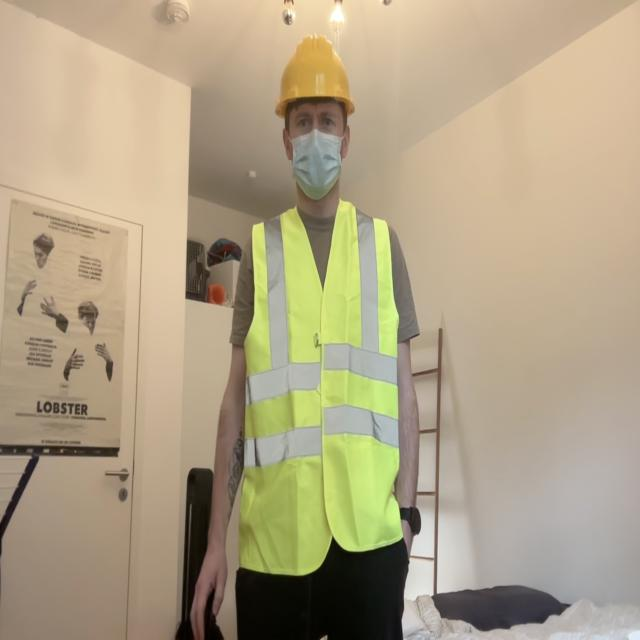Hardhat: (269, 29, 359, 118)
Mask: (280, 126, 350, 202)
Person: (173, 6, 440, 640)
Safety Vest: (233, 203, 407, 580)
